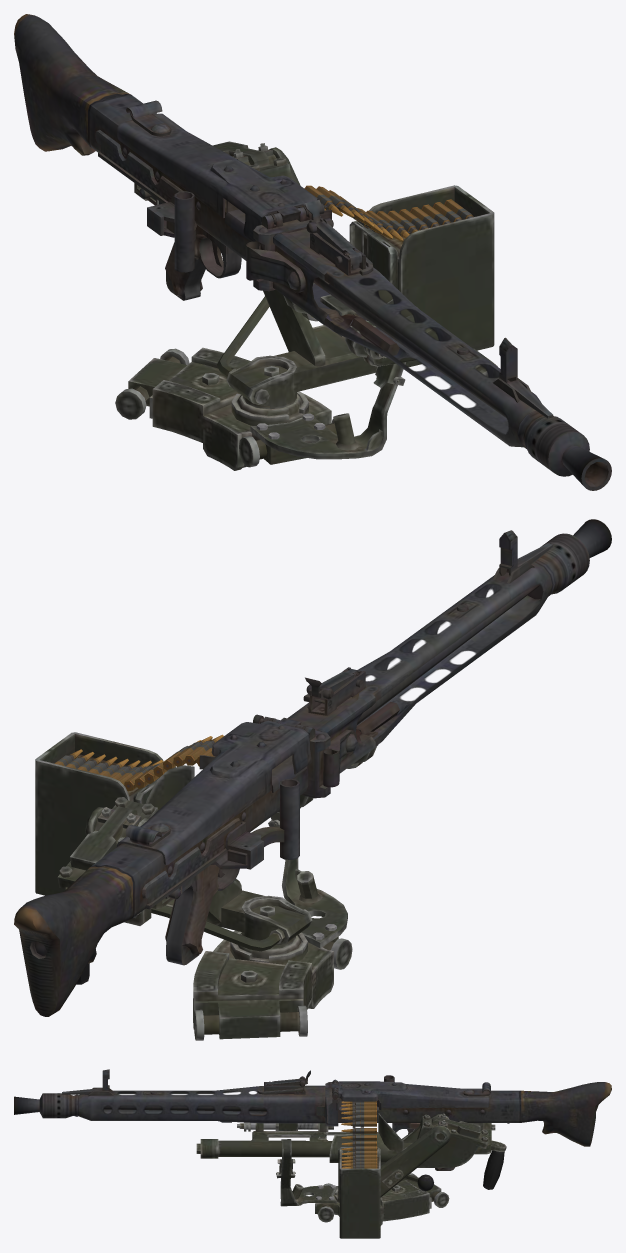
File: chong.glb
3 renders of one model, top to bottom at view 1: azimuth 30°, elevation 25°; view 2: azimuth 150°, elevation 25°; view 3: azimuth 270°, elevation 25°, orthographic. The views are drawn at different scales.
Parts seen in each view (by area): view 1: CHONG; view 2: CHONG; view 3: CHONG.
Part boxes in pixels (x1=…): CHONG: x1=14, y1=14, x2=611, y2=490; CHONG: x1=14, y1=519, x2=611, y2=1040; CHONG: x1=14, y1=1069, x2=611, y2=1238.
Bounding box in the file's own units: 0.3909 × 0.3449 × 1.26.
3 materials, 3 textured.
